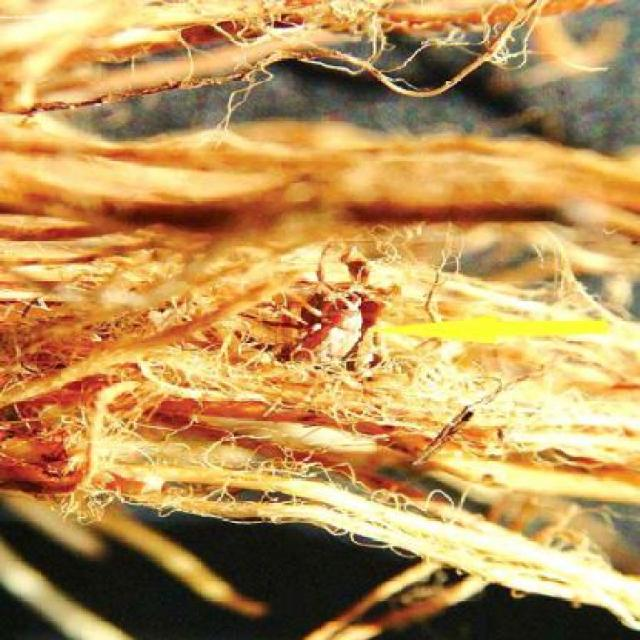rice-bug: (268, 271, 374, 375)
